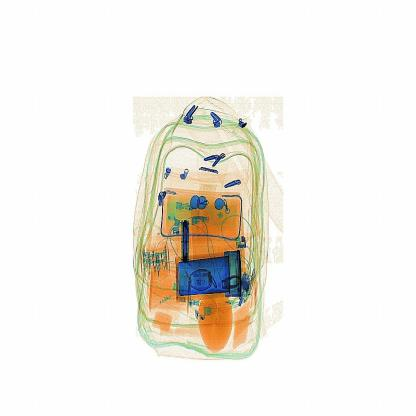scissors: (175, 212, 201, 271)
